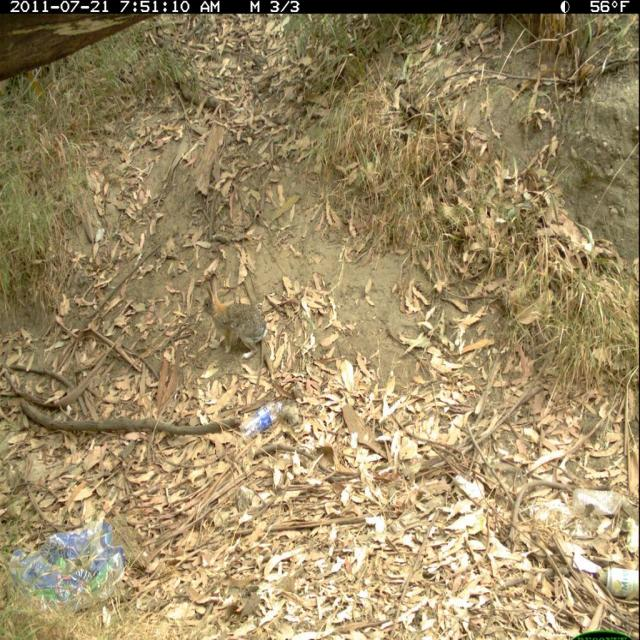rabbit: (195, 270, 291, 364)
